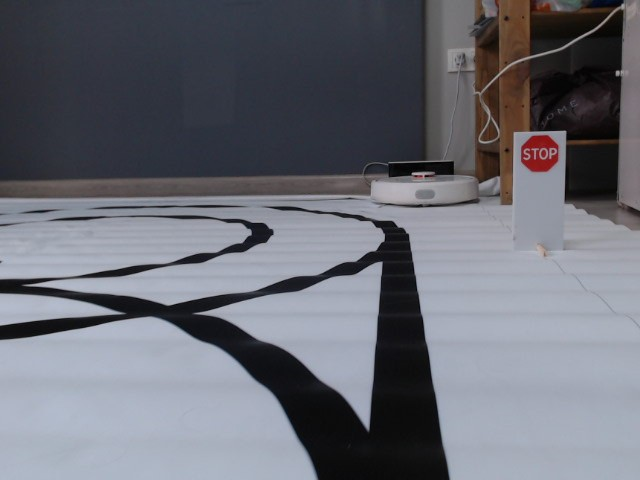Stop: (519, 134, 559, 174)
